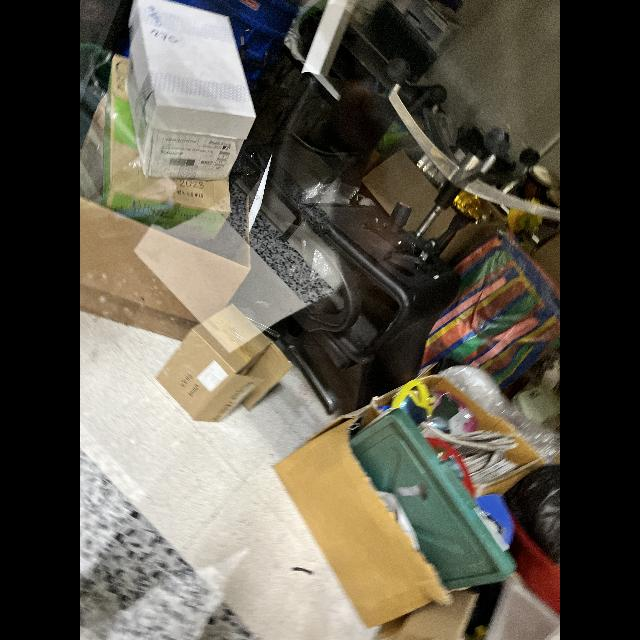cardboard_box: (270, 395, 450, 625), (80, 188, 260, 344), (83, 58, 244, 224), (117, 1, 263, 178), (152, 306, 290, 428)
